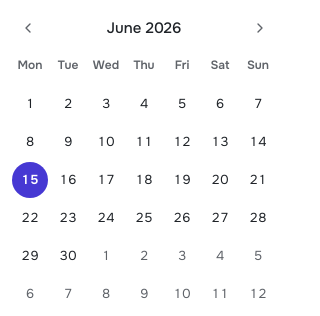
it: Calendar › moves the month with the header arrows
Expected: the text "June 2026" is shown, [107, 17, 181, 39]
What coordinates should you click on to do the following:
click the button named "Next month"
I would click on:
 (260, 28)
Its box is [244, 12, 276, 44].
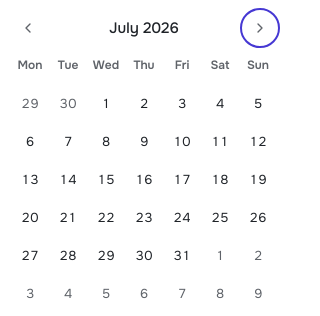
Expected: the text "July 2026" is shown, [109, 17, 179, 39]
What coordinates should you click on to do the following:
click the button named "Previous month"
I would click on:
 (28, 28)
Its box is [12, 12, 44, 44].
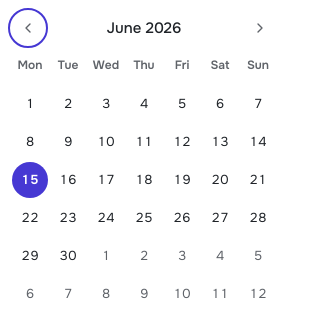
What coordinates should you click on to do the following:
click the button named "Previous month"
I would click on:
 (28, 28)
Its box is [12, 12, 44, 44].
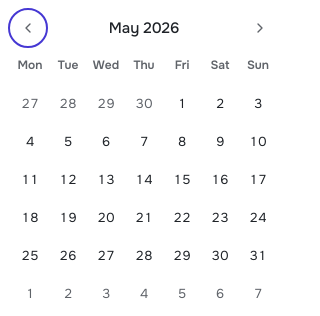
Expected: the text "May 2026" is shown, [109, 17, 179, 39]
